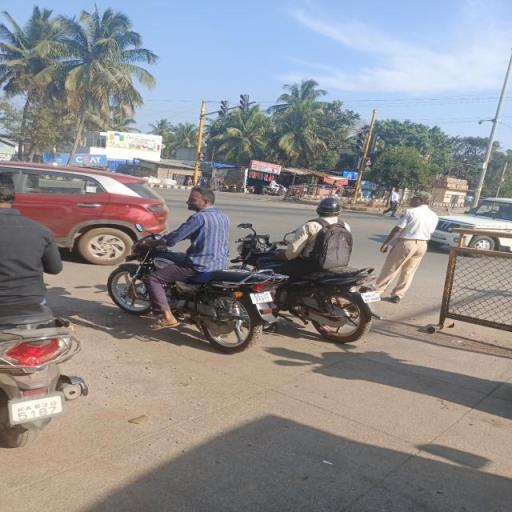bike: (105, 184, 292, 350)
withouthelmet: (190, 187, 215, 209)
